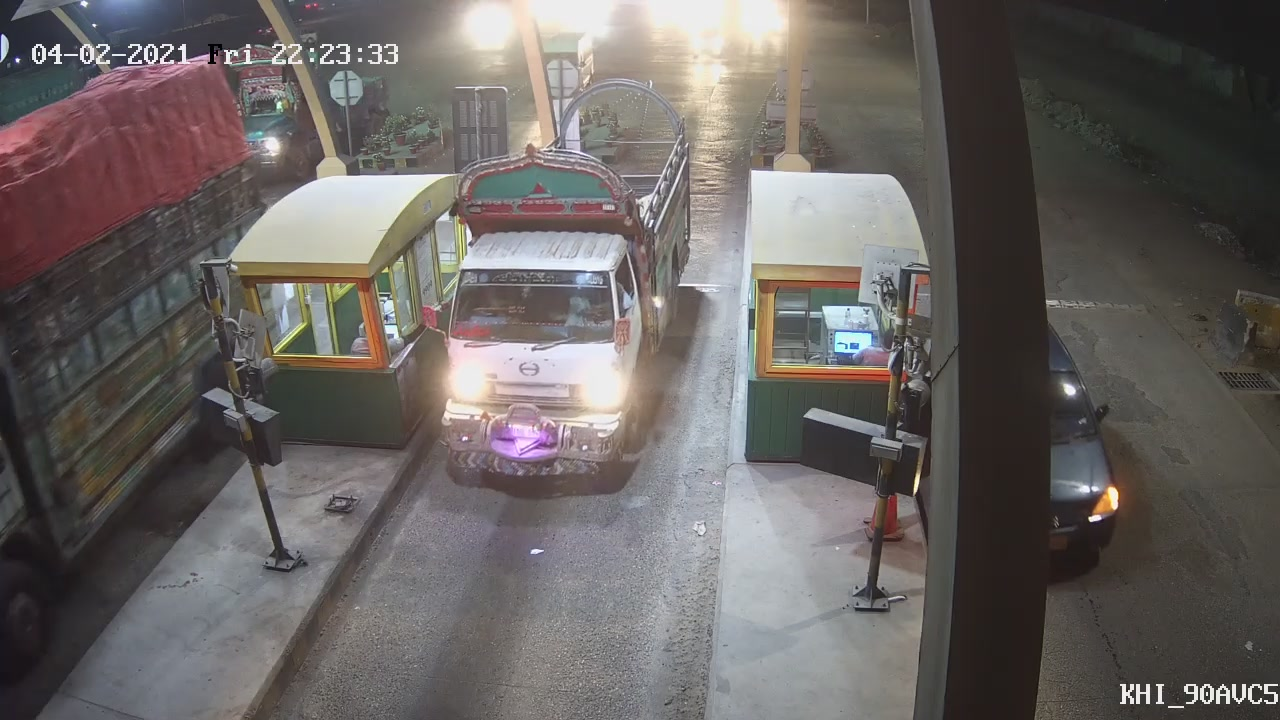F5: (433, 87, 704, 492)
